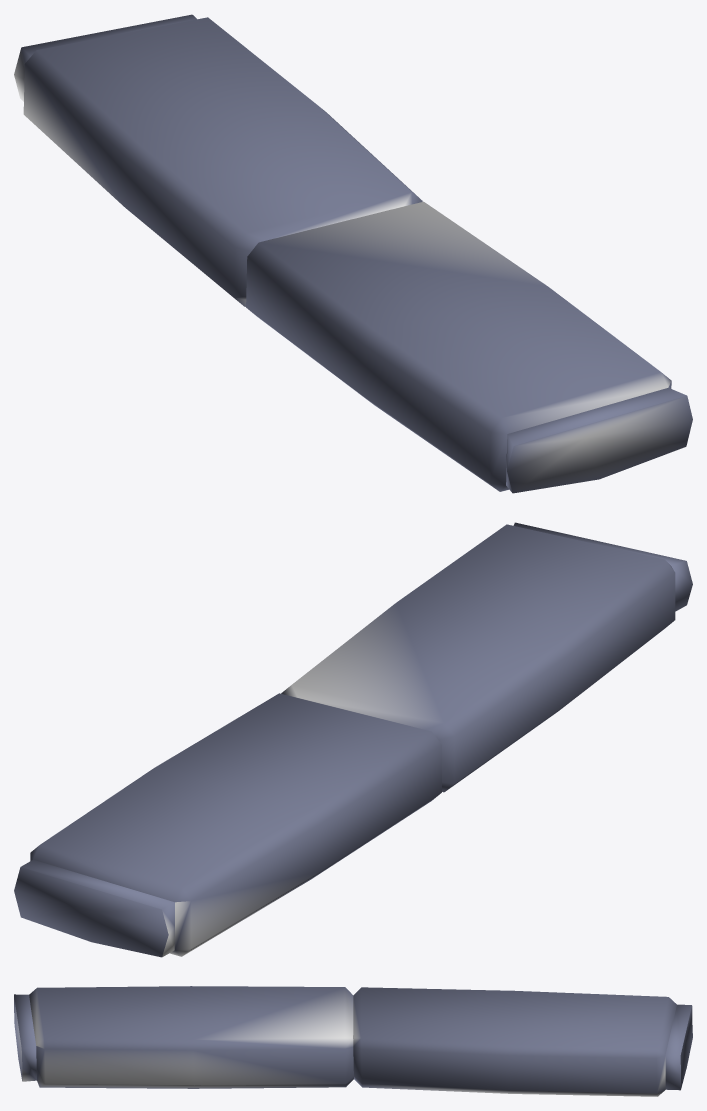
File: PlatformSpiralSmall.gltf
3 renders of one model, top to bottom at view 1: azimuth 30°, elevation 25°; view 2: azimuth 150°, elevation 25°; view 3: azimuth 270°, elevation 25°, orthographic. The views are drawn at different scales.
Visible parts, largest first — view 1: PlatformSpiralSmallMesh; view 2: PlatformSpiralSmallMesh; view 3: PlatformSpiralSmallMesh.
Boxes of the visible parts, x1,y1,x2,y2 form: PlatformSpiralSmallMesh: (14,14,692,493); PlatformSpiralSmallMesh: (14,522,692,957); PlatformSpiralSmallMesh: (14,986,692,1096).
Size of what is drawn, in the model's own units: 2.84 by 0.9838 by 11.92.
